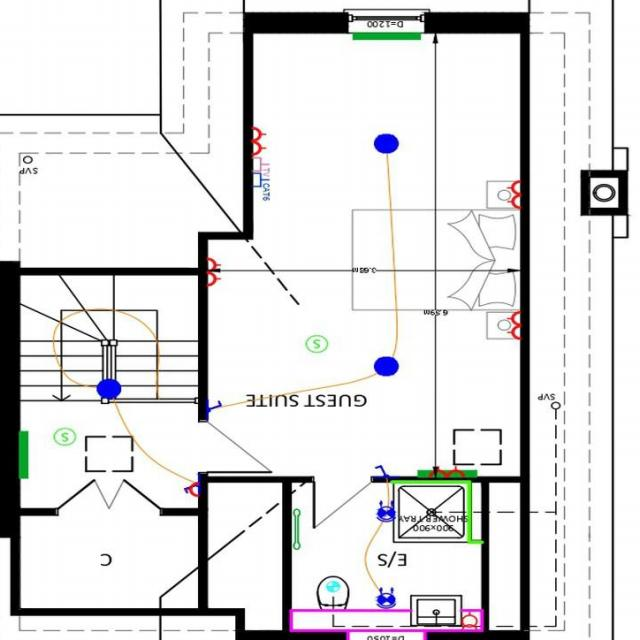Cat 6 Data Socket: (248, 172, 275, 201)
Ceiling Mounted Continuous Extract Fan With Boost Mode Activated By Light Switch: (322, 572, 341, 598)
Co-Ax TV Socket: (242, 156, 273, 175)
Double Socket: (199, 254, 233, 289), (498, 169, 522, 215), (250, 121, 270, 158), (423, 466, 468, 482), (505, 310, 523, 346)
Full Height Tiling: (459, 483, 482, 554), (390, 480, 468, 490)
Light Switch: (178, 471, 196, 508), (200, 393, 223, 421), (372, 461, 395, 481)
Low Energy Downlighter: (367, 574, 399, 620), (372, 498, 401, 528)
Low Energy Pendant Light: (367, 348, 401, 386), (93, 372, 128, 407), (369, 126, 401, 159)
Mains Wired Smoke Detector: (51, 424, 77, 453), (305, 333, 331, 360)
Radiator: (406, 466, 482, 480), (347, 34, 426, 47), (18, 425, 32, 485)
Shaver Socket: (454, 600, 480, 636)
Single Socket: (186, 476, 199, 499)
